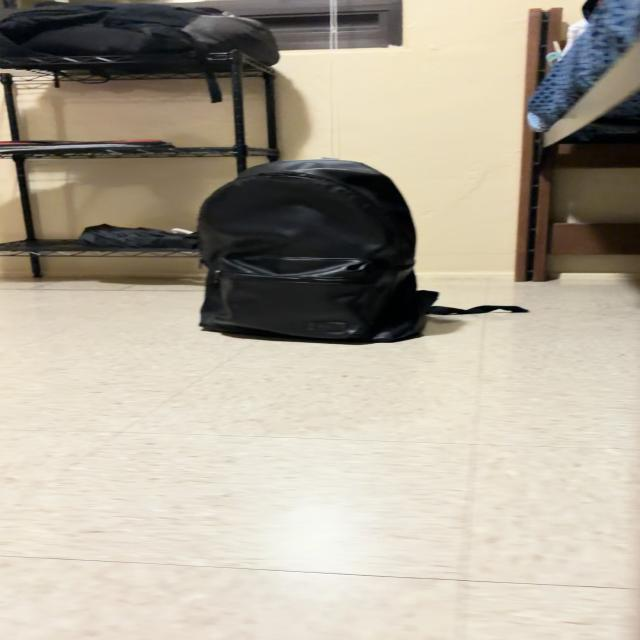backpack: (198, 160, 524, 342), (0, 2, 279, 102)
